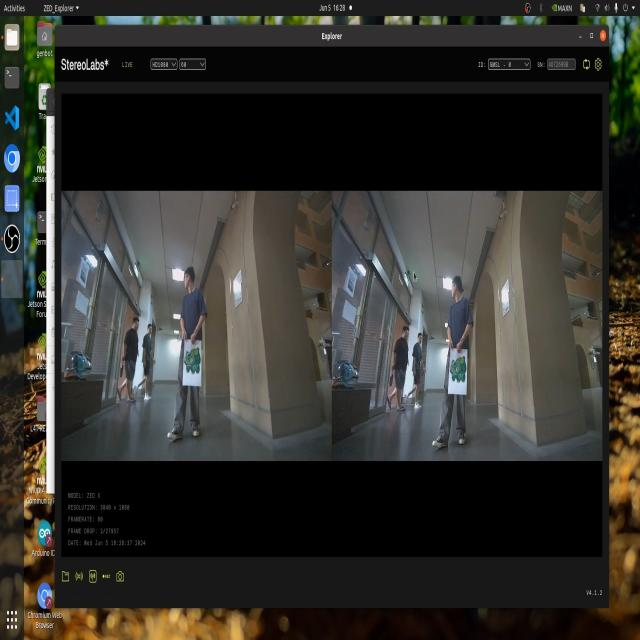green: (178, 338, 208, 388), (448, 356, 472, 396)
